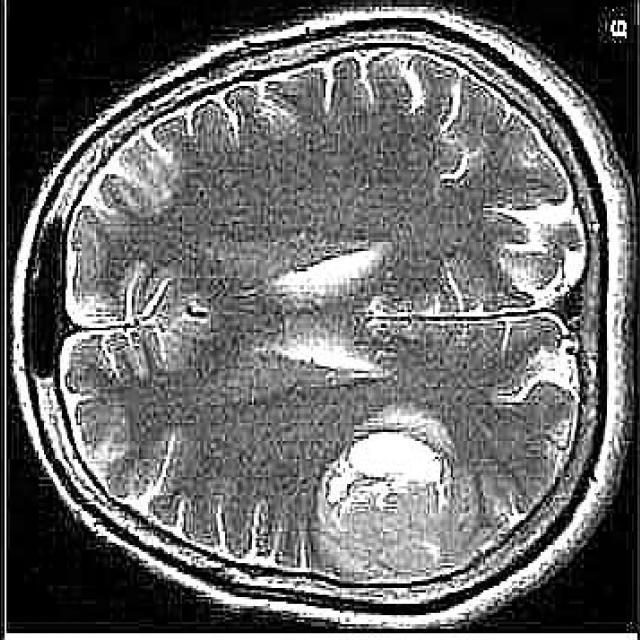tumor: (312, 412, 457, 583)
